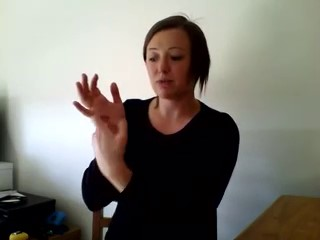R: (68, 70, 131, 170)
